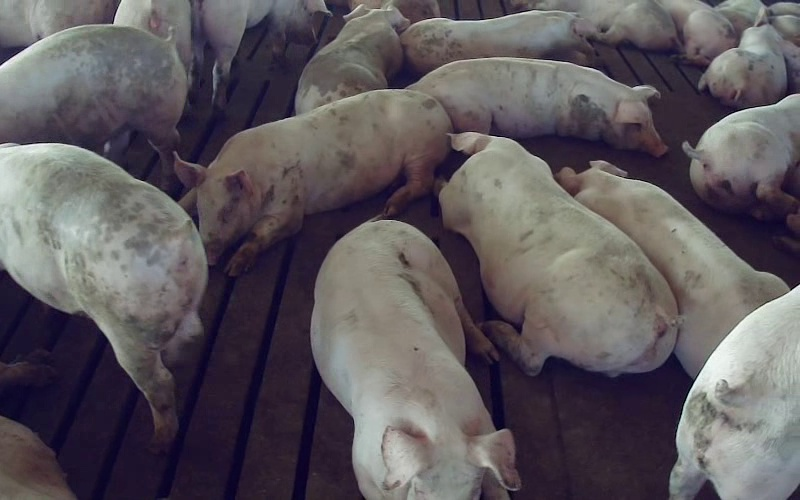pig: (311, 220, 519, 499), (440, 132, 676, 375), (175, 90, 451, 275), (556, 161, 788, 376), (670, 286, 799, 499), (409, 57, 666, 156), (683, 94, 799, 219), (295, 5, 409, 114), (400, 11, 595, 72), (698, 8, 786, 108), (511, 0, 680, 50), (659, 0, 737, 65)
